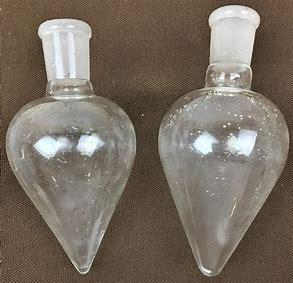Pear shaped flask: (156, 9, 291, 270), (14, 14, 136, 270)
